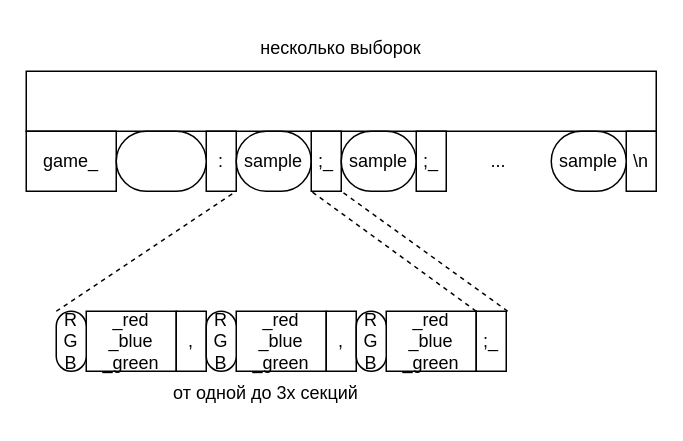
This 683x441 diagram has some shape labels left out. Here are the shapes that lost their labels. From the top down, the box of each, then its label:
(25, 70, 656, 131): line
(115, 130, 206, 191): game_id
